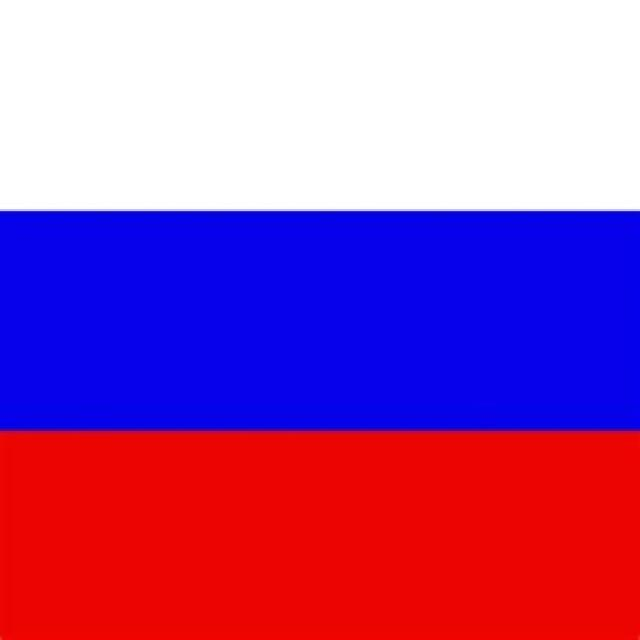russia: (19, 22, 640, 620)
